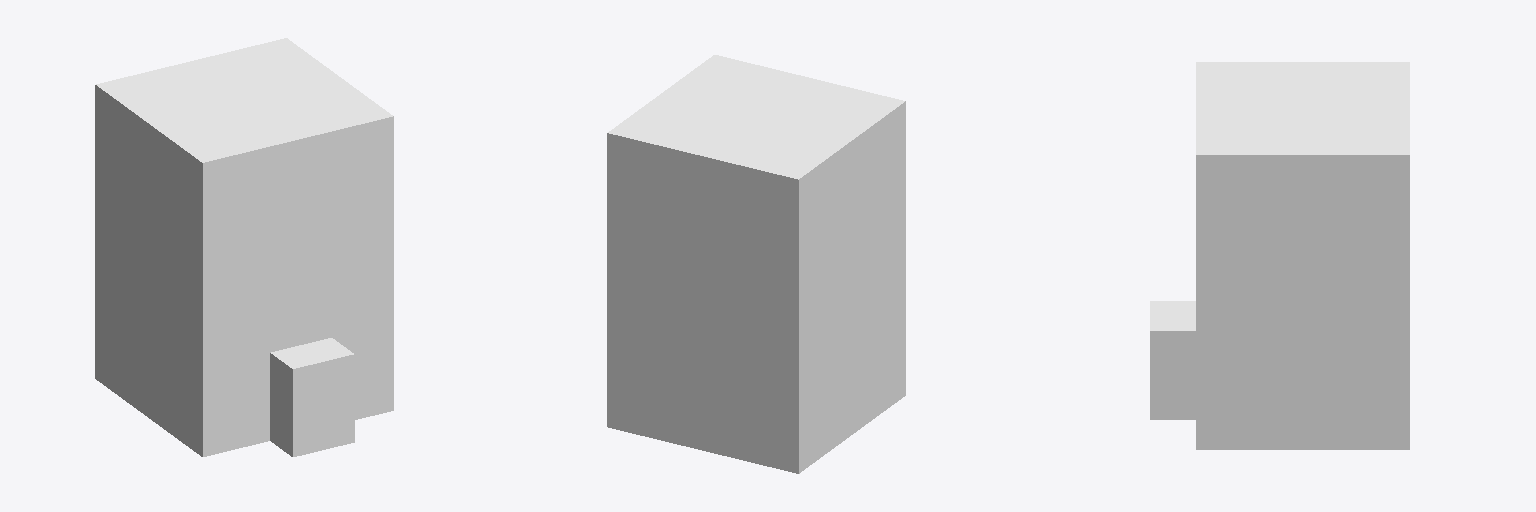
The model's file is bossgolem-5.obj.
The picture shows the model from 3 angles: view 1: azimuth 30°, elevation 25°; view 2: azimuth 150°, elevation 25°; view 3: azimuth 270°, elevation 25°; orthographic projection.
Visible parts, largest first — view 1: object 1; view 2: object 1; view 3: object 1.
Boxes of the visible parts, box(x1,y1,x2,y2) form: object 1: box(95, 38, 393, 456); object 1: box(607, 55, 905, 473); object 1: box(1150, 62, 1409, 449).
Bounding box in the file's own units: 3.4 × 5 × 4.